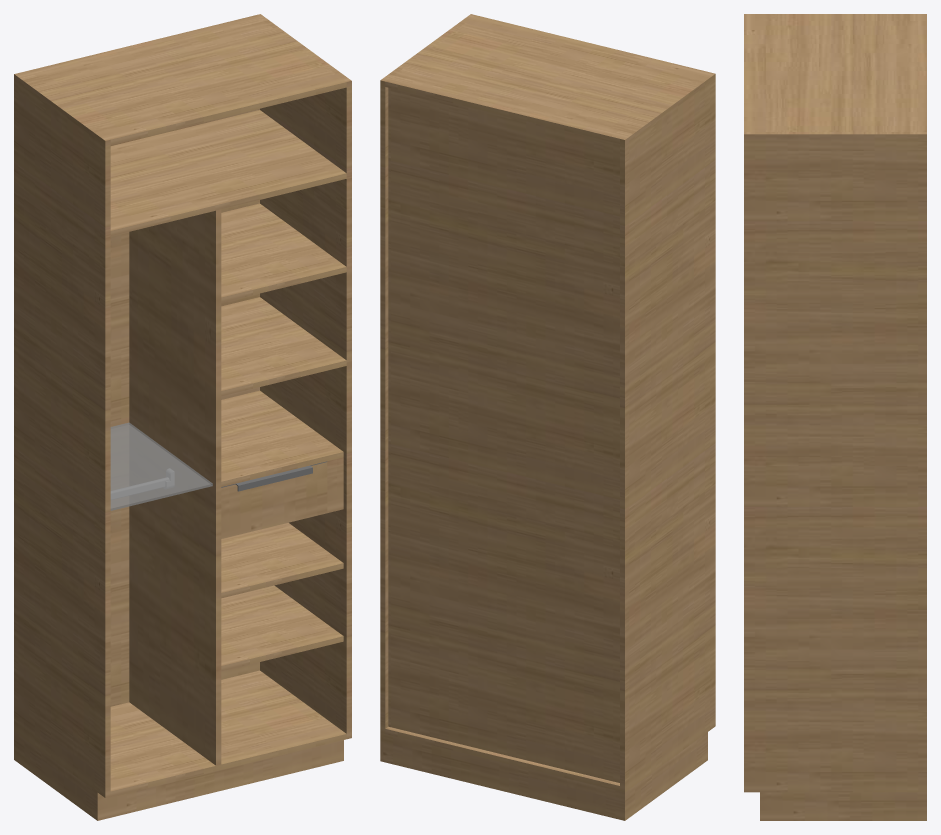
The model's file is cobalagi-antinode.glb.
3 views of the same model, side by side, from view 1: azimuth 30°, elevation 25°; view 2: azimuth 150°, elevation 25°; view 3: azimuth 270°, elevation 25° (orthographic).
Parts seen in each view (by area): view 1: Geom3D_.007; view 2: Geom3D_.007; view 3: Geom3D_.007.
Part boxes in pixels (x1,y1,x2,y2): Geom3D_.007: (14, 14, 351, 820); Geom3D_.007: (380, 14, 715, 820); Geom3D_.007: (744, 14, 926, 820).
Size of the model in its own units: 0.904 by 2.4 by 0.58.
Materials: 8 (1 with a texture image).
